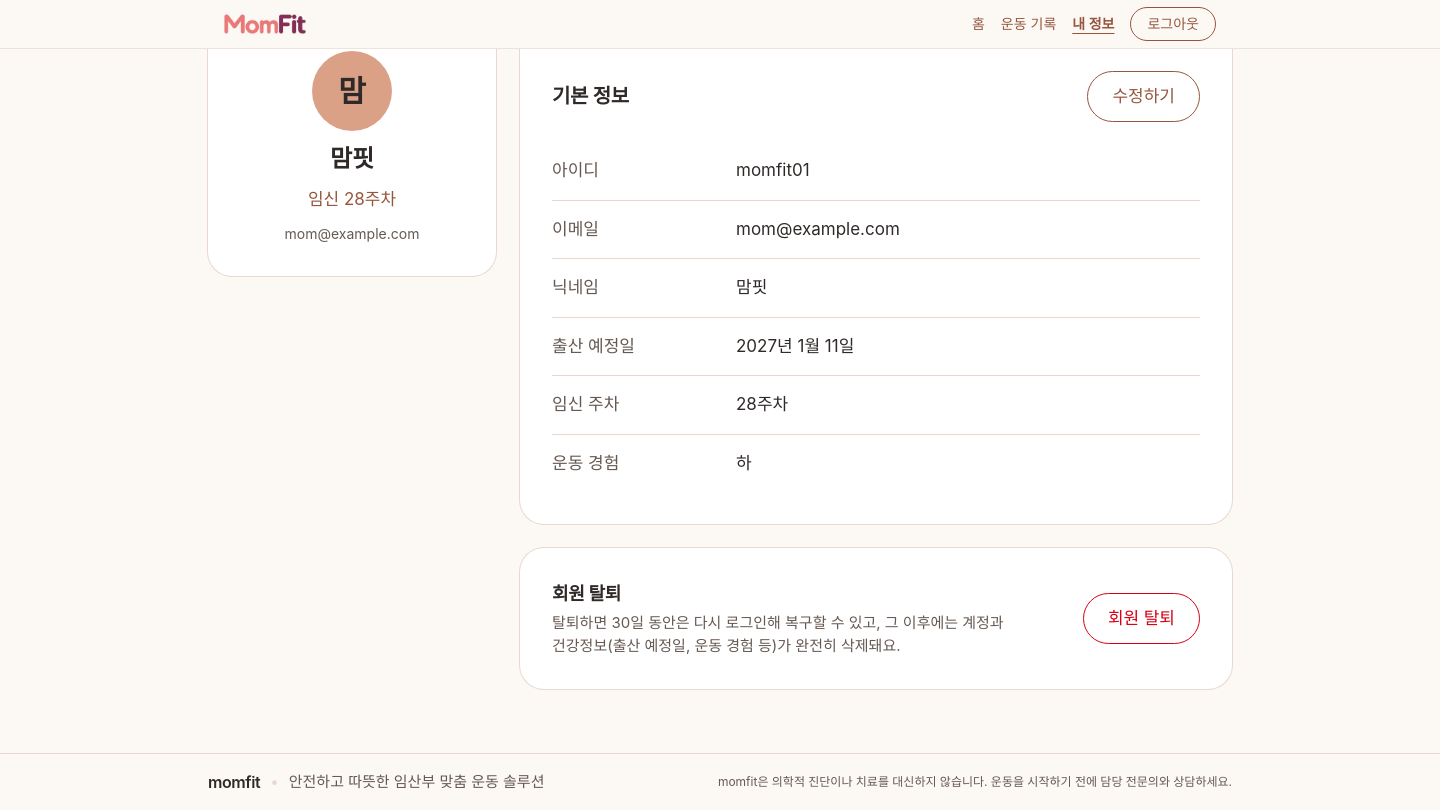
Test: 회원 탈퇴 › 버튼을 누르면 확인 모달이 열린다
(page scrolled)
Click the button "회원 탈퇴": (1141, 619) [1083,593,1200,644]
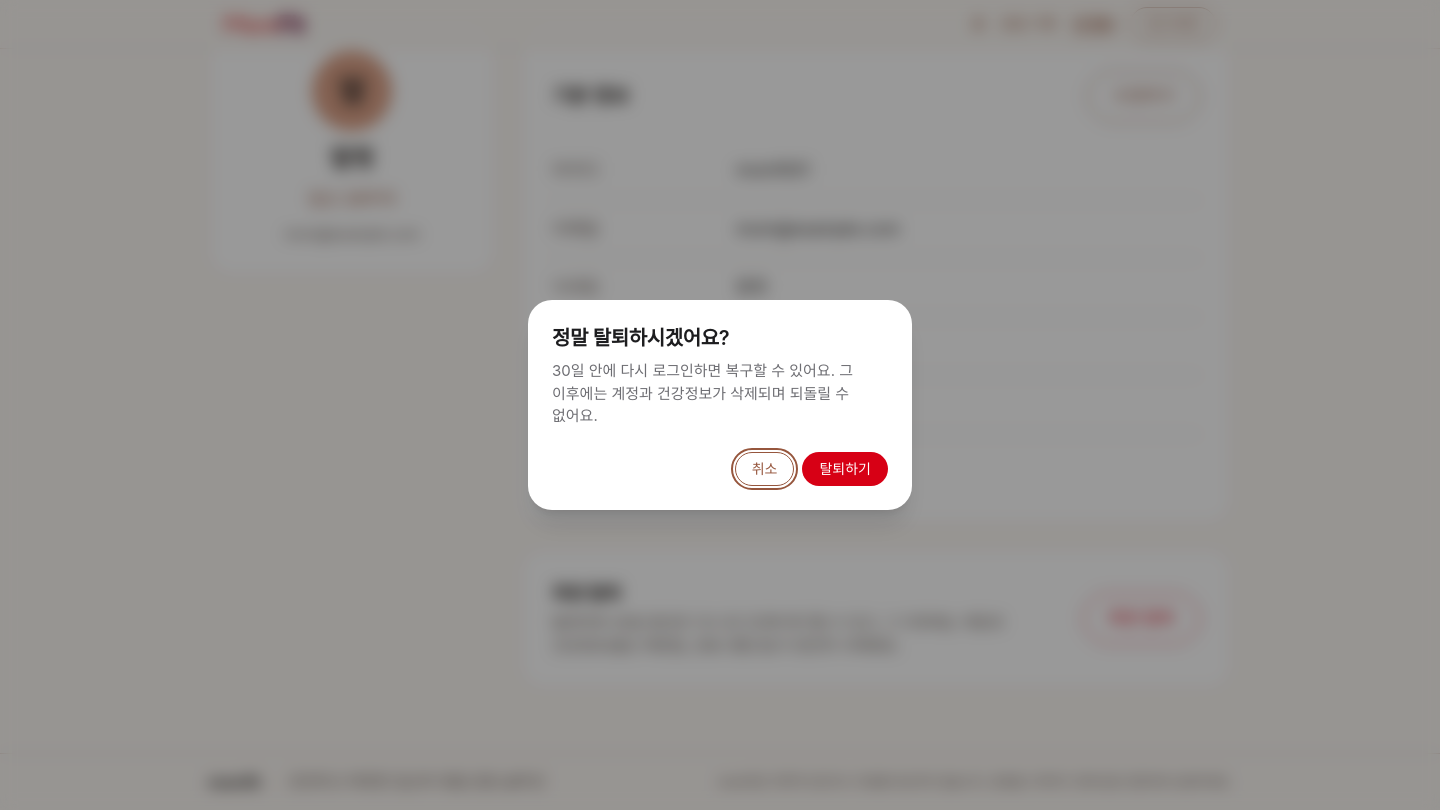
Expected: the dialog "정말 탈퇴하시겠어요?" shows "30일 안에 다시 로그인하면 복구할 수 있어요", [552,361,853,425]
Expected: the dialog "정말 탈퇴하시겠어요?" shows "그 이후에는 계정과 건강정보가 삭제되며", [552,361,853,425]
